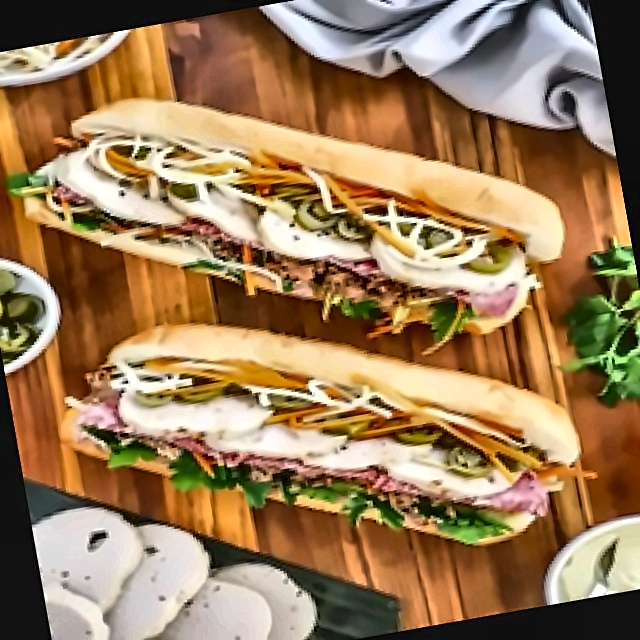bread: (34, 251, 588, 537), (51, 19, 584, 308)
